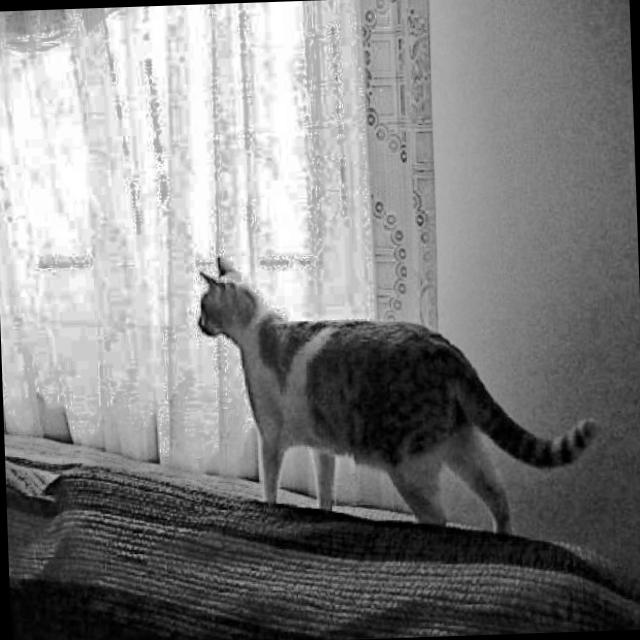Cat: (188, 234, 605, 563)
